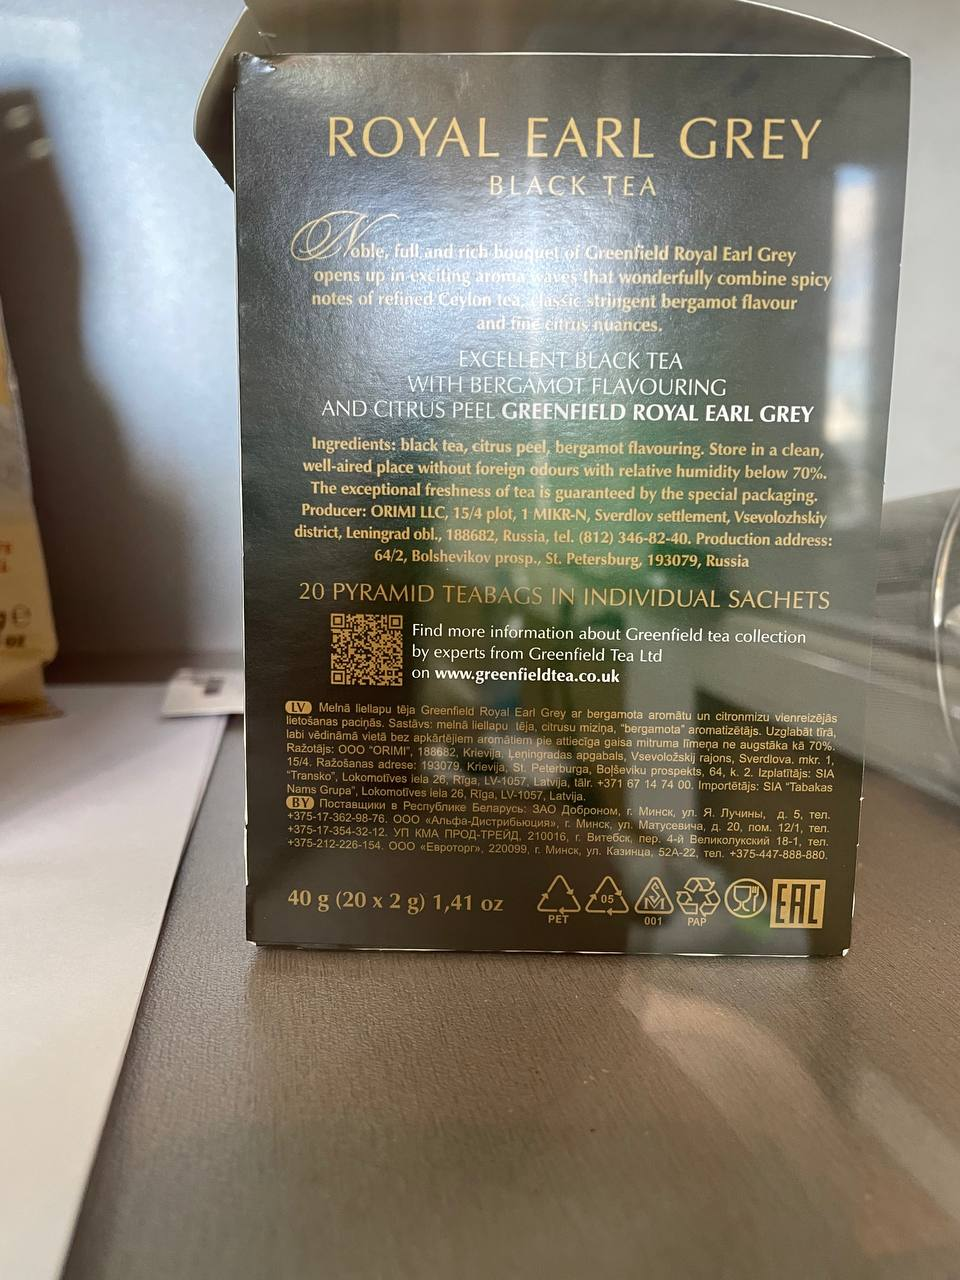2d: (330, 611, 405, 688)
